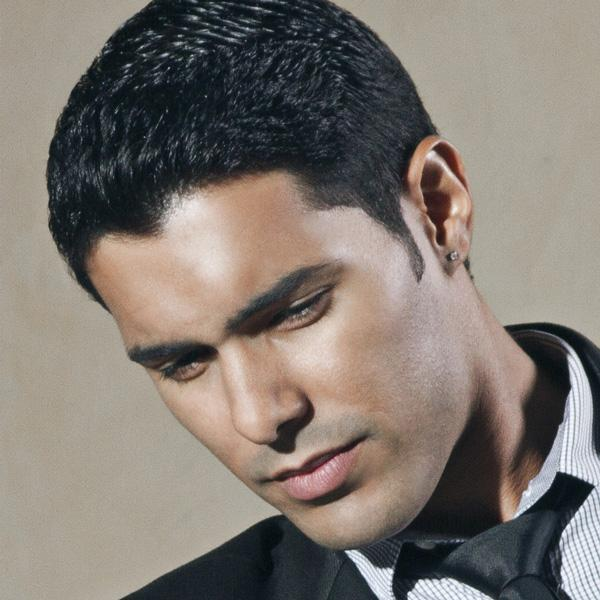Eyes: (257, 274, 343, 341), (146, 336, 219, 391)
